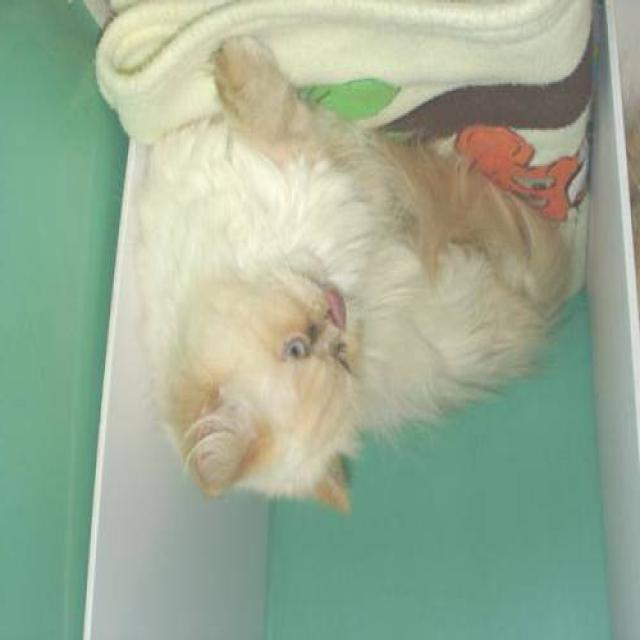Kucing: (84, 24, 588, 521)
